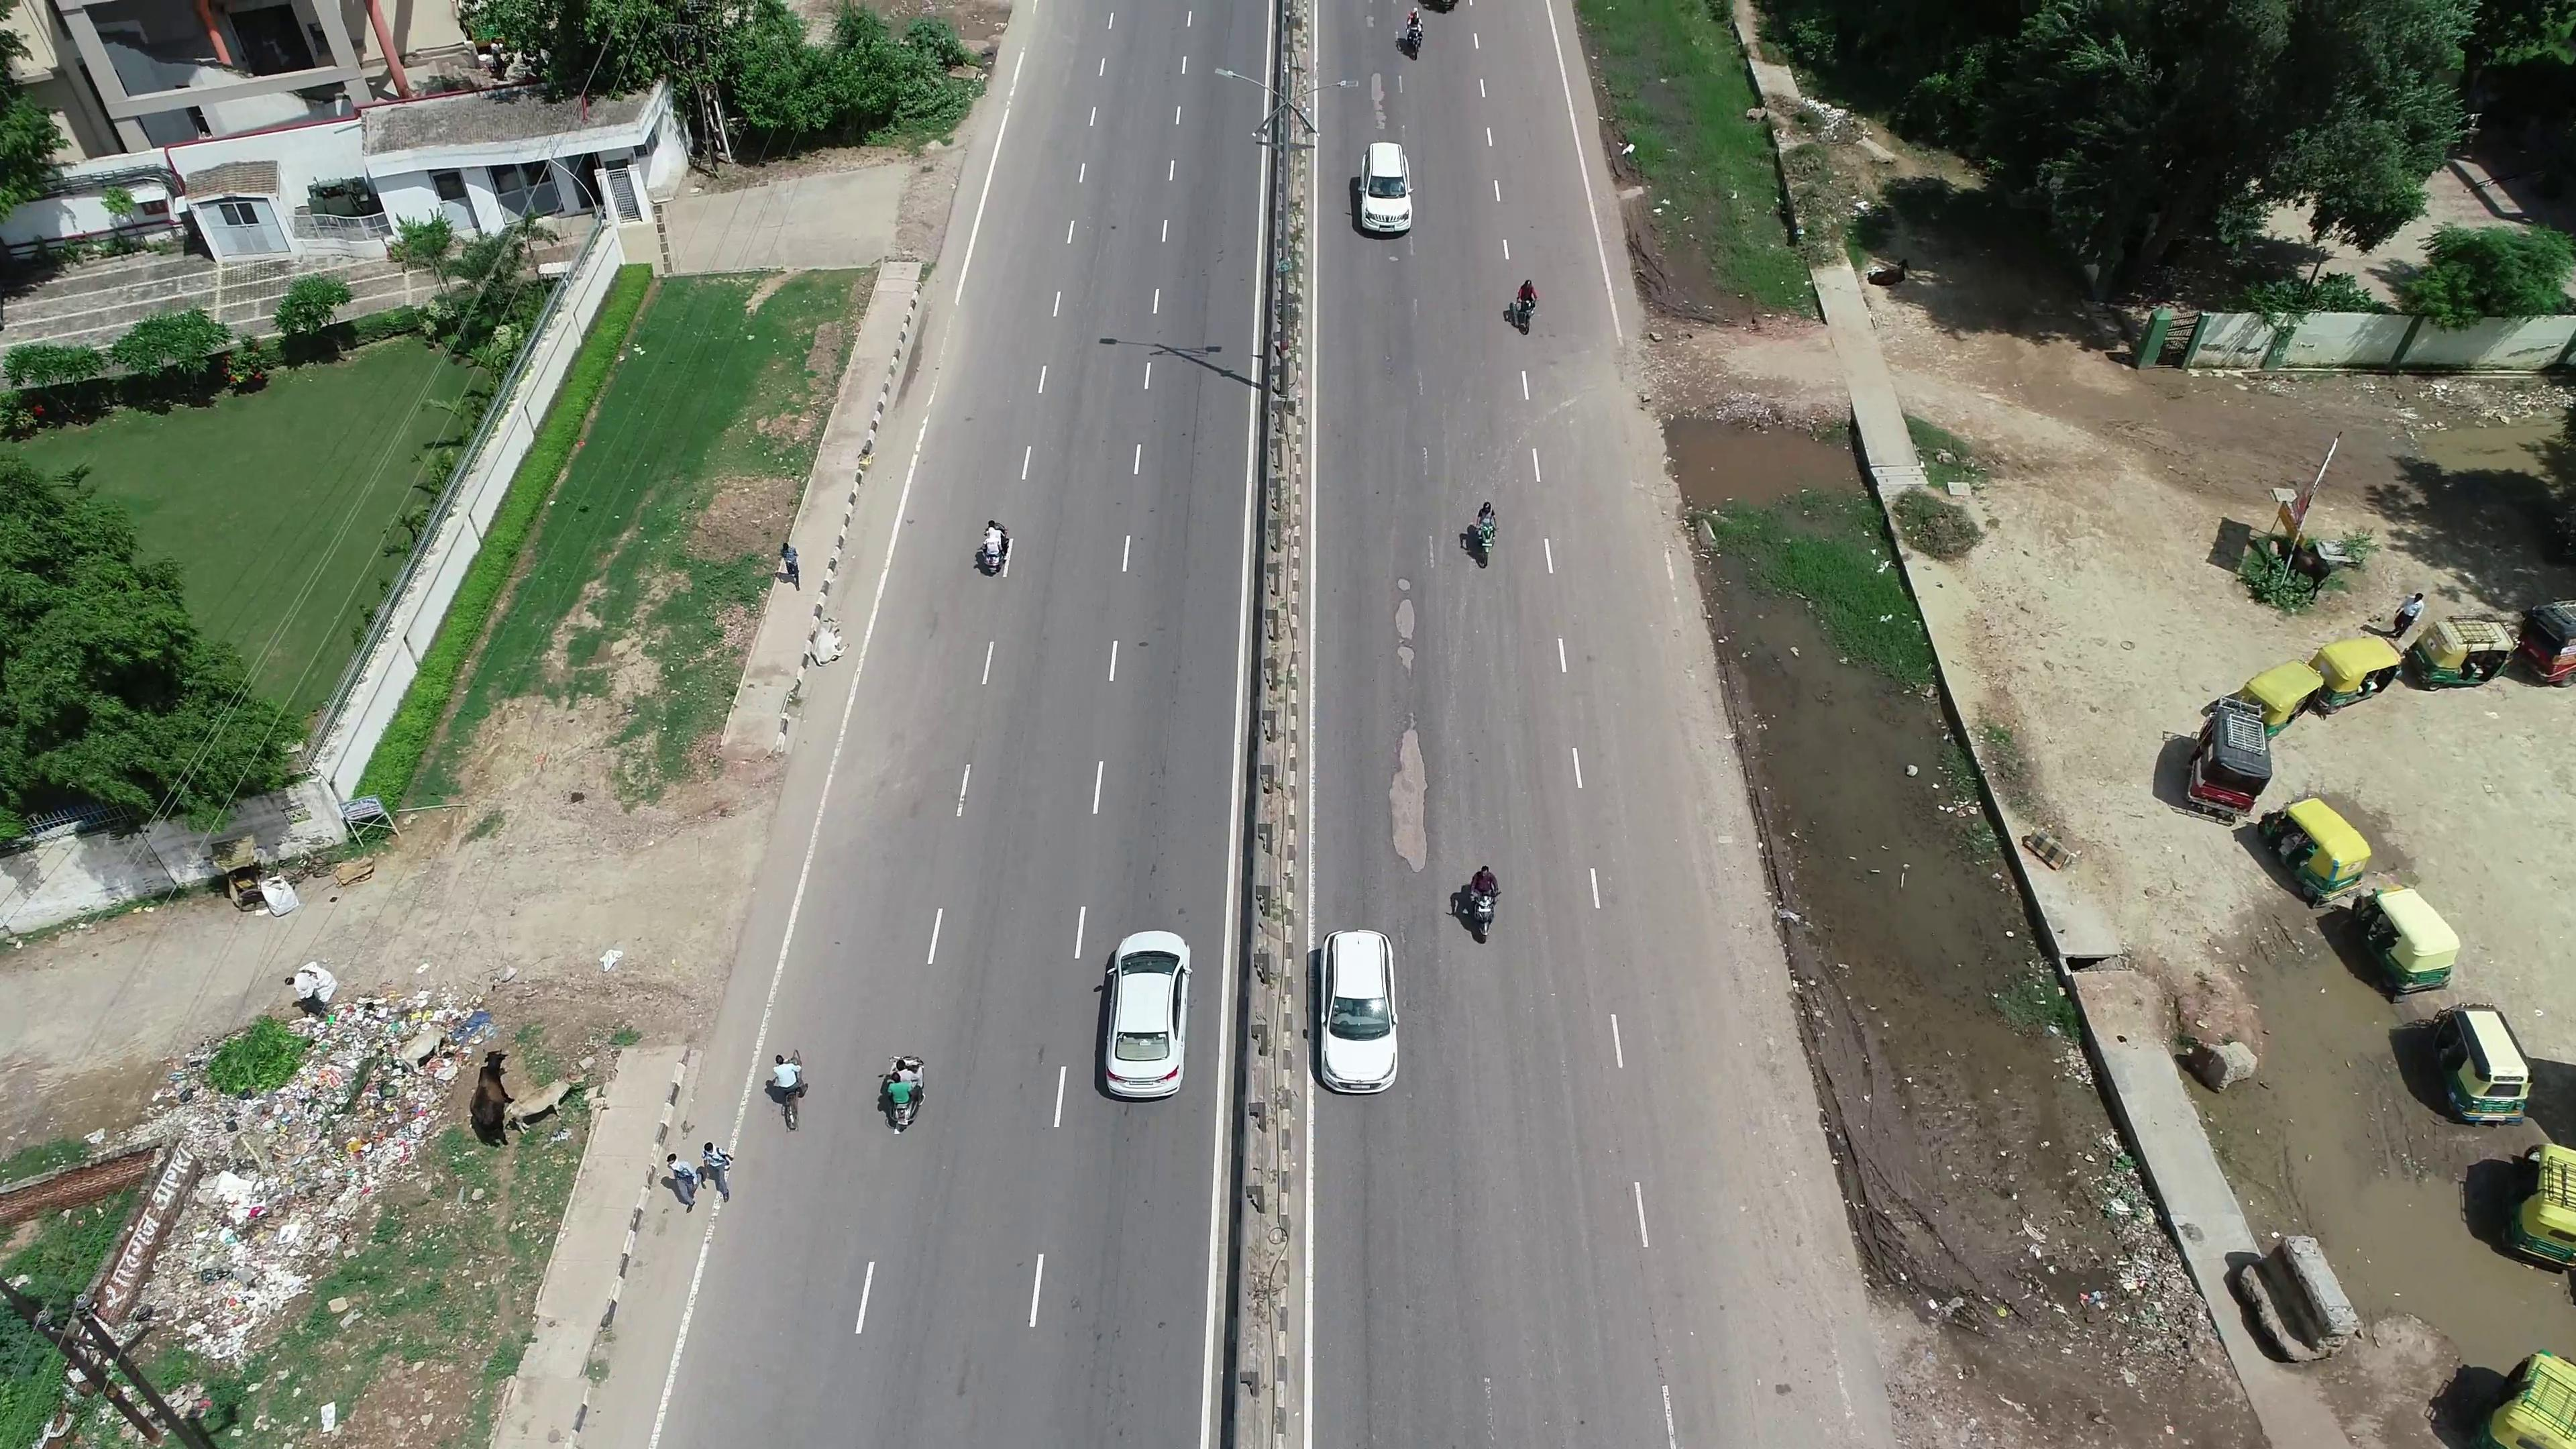Potholes: (1375, 706, 1440, 881), (1364, 563, 1438, 683)
Road_side_garbage: (157, 1024, 423, 1318)
